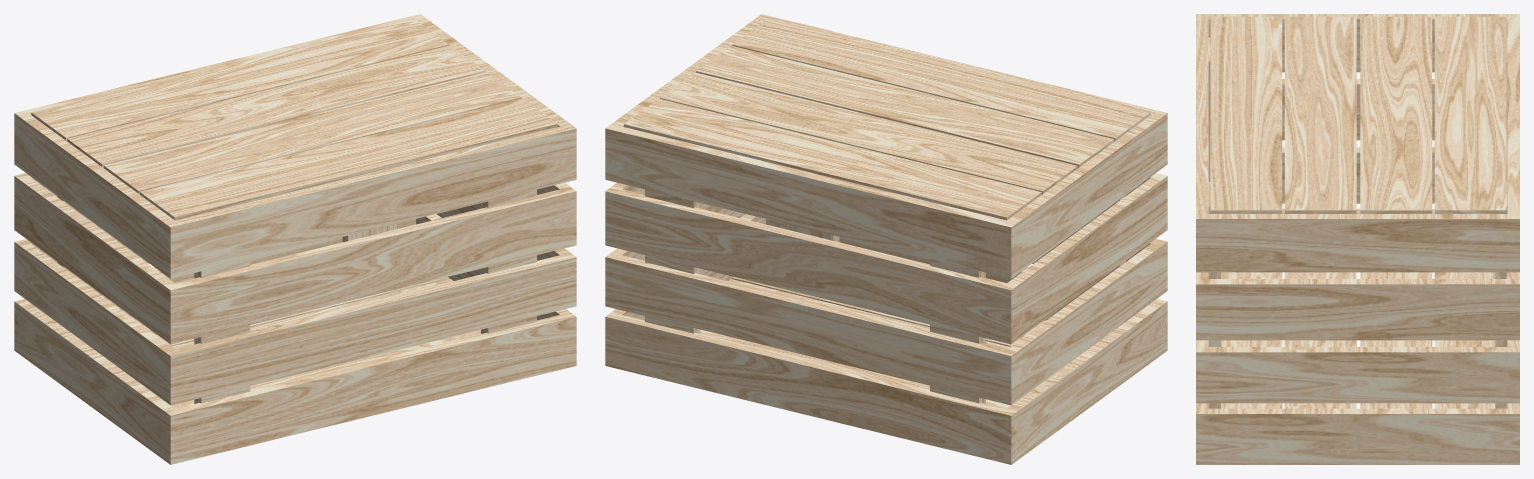
Rendered from CajaNODestructible.fbx.
The picture shows the model from 3 angles, left to right: view 1: azimuth 30°, elevation 25°; view 2: azimuth 150°, elevation 25°; view 3: azimuth 270°, elevation 25°; orthographic projection. The views are drawn at different scales.
Visible parts, largest first — view 1: caja; view 2: caja; view 3: caja.
Part boxes in pixels (x1,y1,x2,y2): caja: (14, 14, 576, 464); caja: (605, 14, 1167, 464); caja: (1196, 14, 1519, 464).
Bounding box in the file's own units: 300 × 173 × 200.
